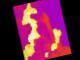Foc: (14, 1, 47, 49), (36, 24, 70, 60), (20, 43, 40, 59)
